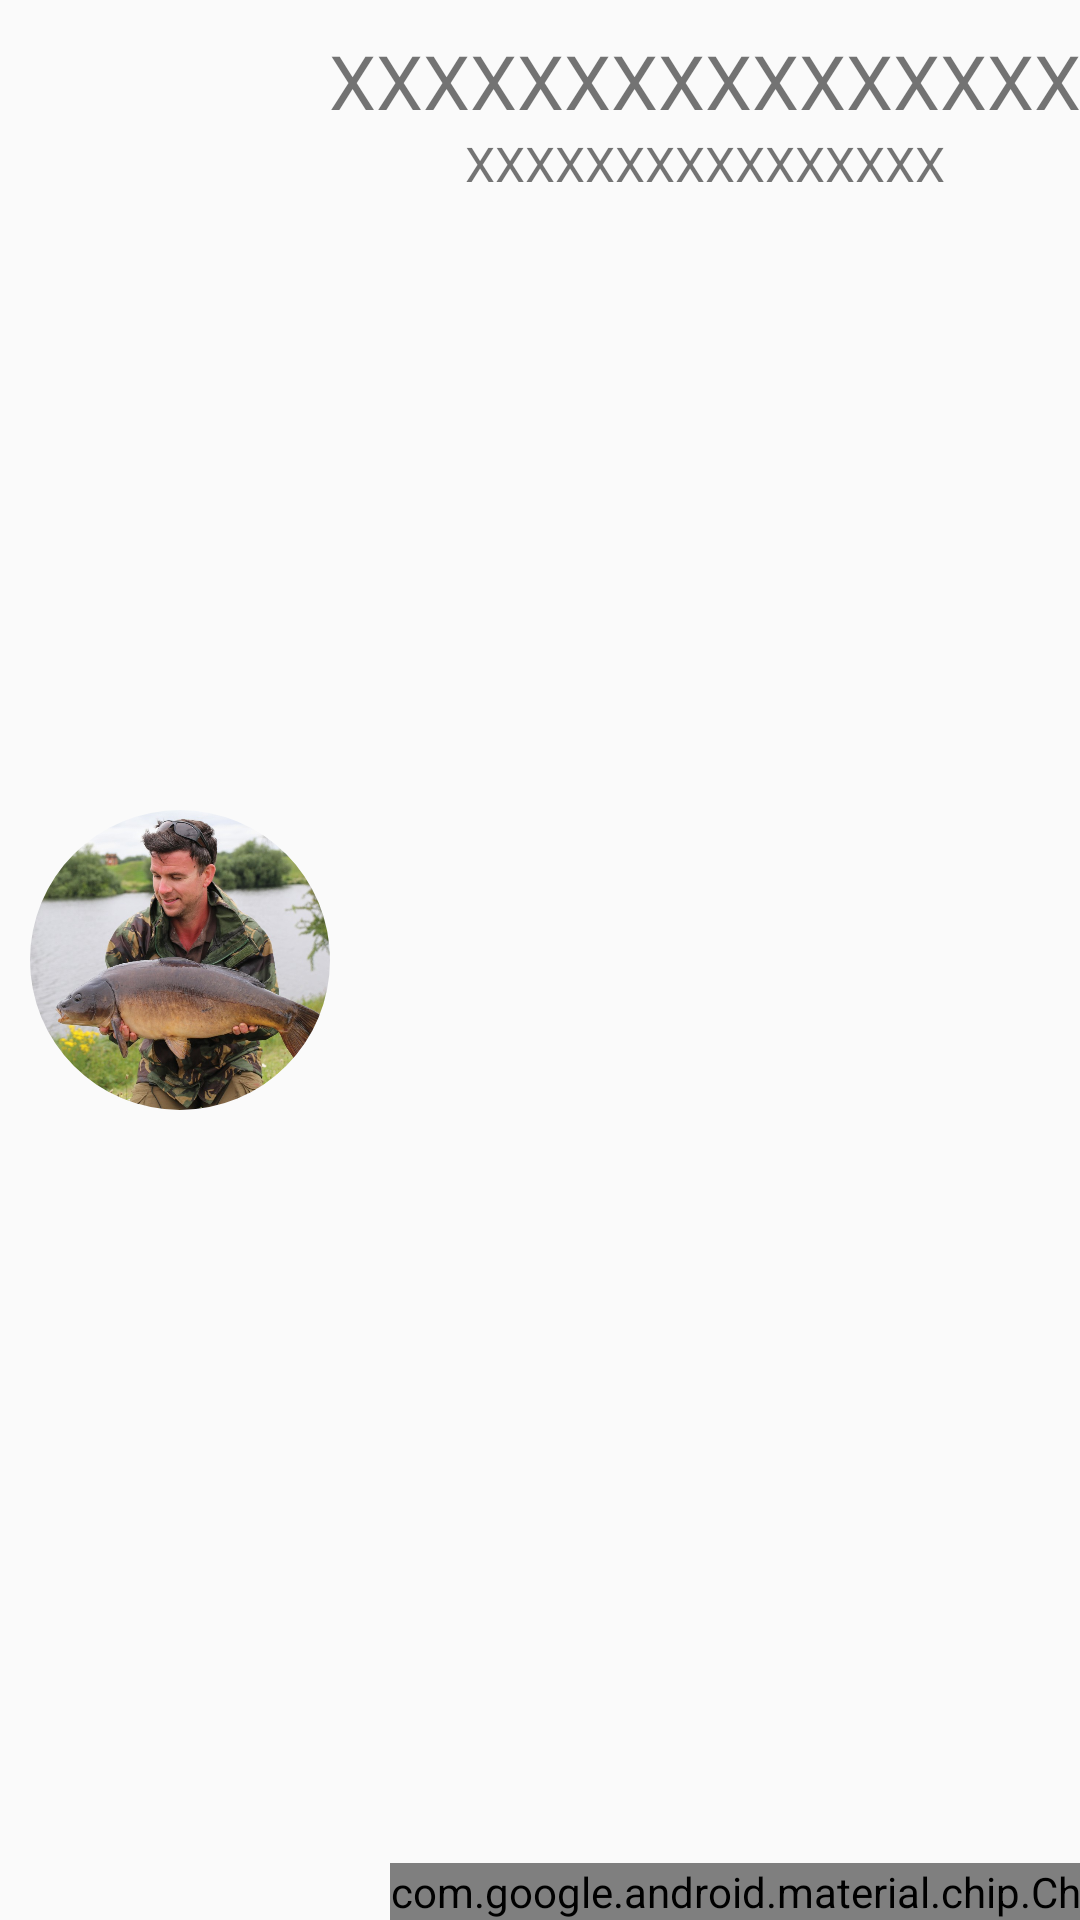

Icons on this 1080px x 1920px Android screen, each with its box as [left=x1, top=y1, right=x2, bottom=y2]:
carp: [left=30, top=818, right=330, bottom=1110]
